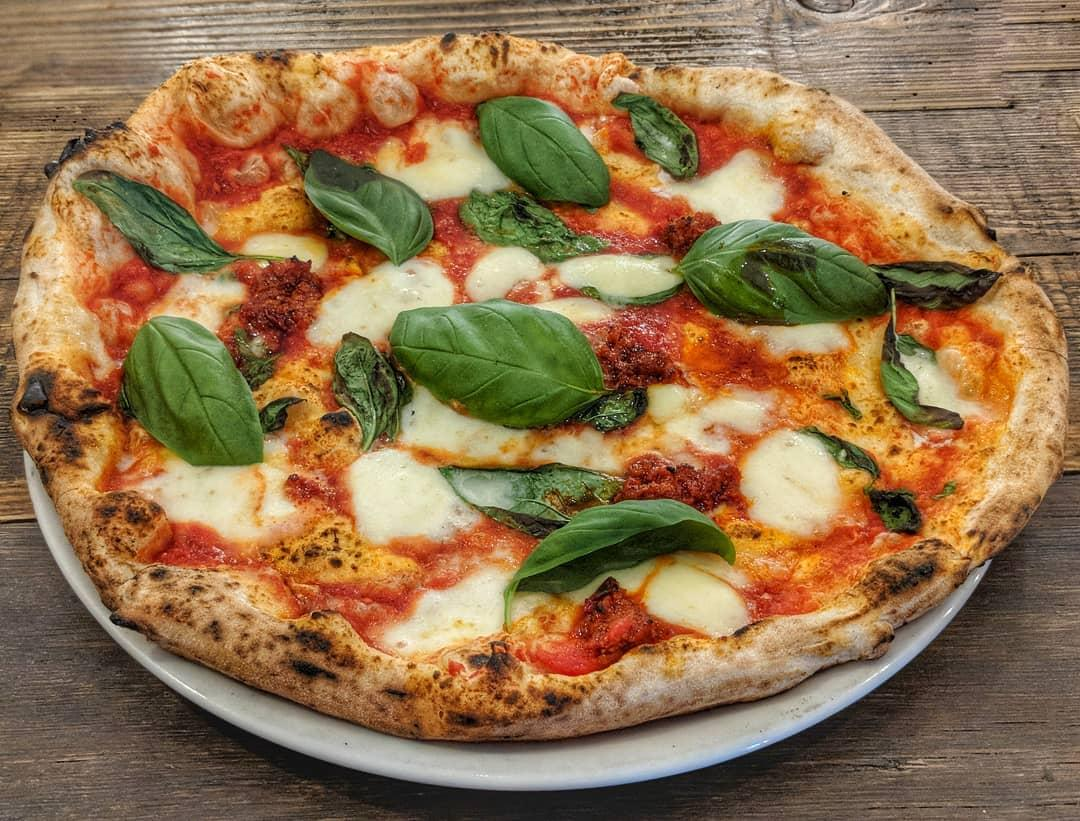Basil: (388, 308, 602, 426), (688, 220, 889, 328), (124, 318, 269, 461), (506, 506, 734, 595), (297, 150, 435, 259), (478, 94, 611, 206), (85, 175, 225, 275), (440, 465, 620, 522), (878, 332, 964, 425)
Cheese: (395, 386, 521, 449), (327, 270, 430, 333), (407, 577, 505, 643), (655, 380, 761, 439), (155, 469, 270, 523), (357, 462, 439, 529), (754, 447, 825, 519), (682, 164, 774, 214), (404, 128, 478, 190), (169, 279, 243, 333), (570, 257, 672, 296), (740, 323, 847, 358), (480, 252, 535, 298), (246, 236, 314, 263)
Pizza: (16, 36, 1066, 735)
